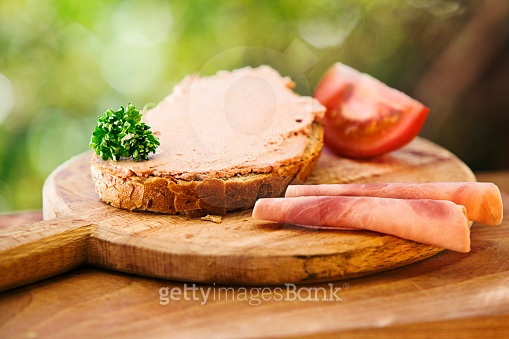slice of bread: (88, 68, 331, 212)
